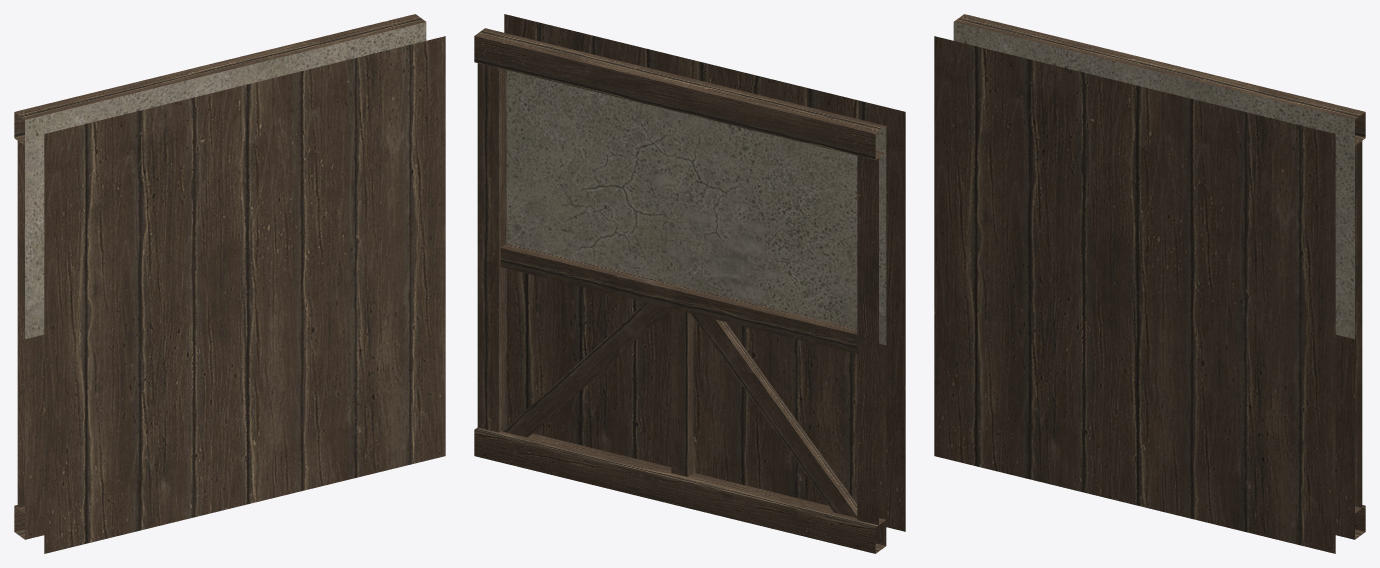
The model's file is ARC1010275.fbx.
3 renders of one model, left to right at view 1: azimuth 30°, elevation 25°; view 2: azimuth 150°, elevation 25°; view 3: azimuth 330°, elevation 25°, orthographic.
Parts seen in each view (by area): view 1: smARC1010275; view 2: smARC1010275; view 3: smARC1010275.
Boxes of the visible parts, left/top/right/bottom form: smARC1010275: left=14, top=14, right=445, bottom=553; smARC1010275: left=474, top=14, right=905, bottom=553; smARC1010275: left=934, top=14, right=1365, bottom=553.
Bounding box in the file's own units: 268 × 268 × 34.9.
1 material, 1 textured.
